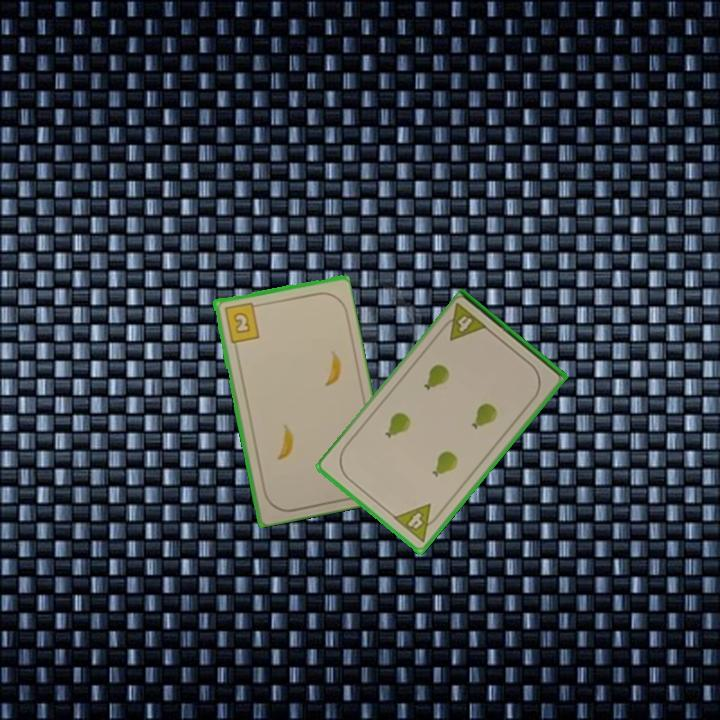2b: (220, 298, 262, 345)
4p: (390, 500, 444, 545), (436, 300, 491, 344)
